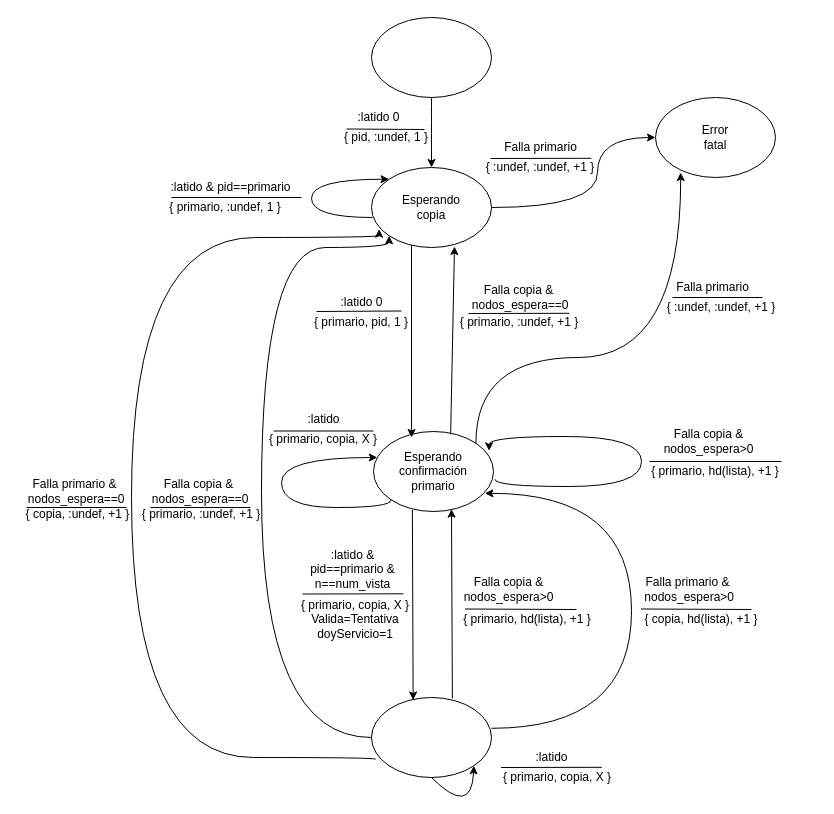
The diagram is 834 pixels wide and 814 high, and some of its shapes have lost their labels. Here are the shapes that lost their labels. From the top down, the centre of each, then its label:
At (x=431, y=57): "Esperando primario".
At (x=431, y=737): "Servicio".
